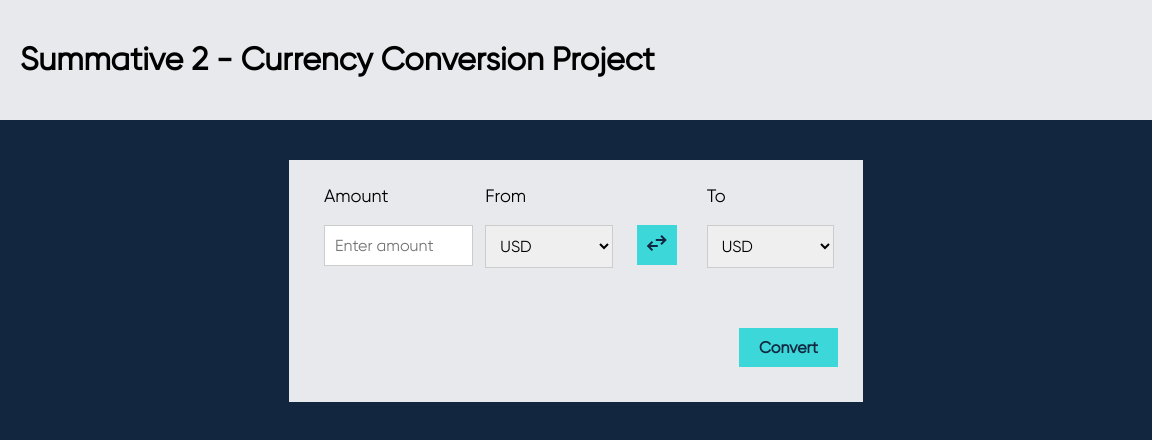
Test: Test suite confirms functionality of critical UI elements › should display error message when amount is invalid
# Simulate user entering an invalid amount
Type "invalid" into the field with test id "amountElement". click: (399, 246)
box: [324, 225, 473, 266]
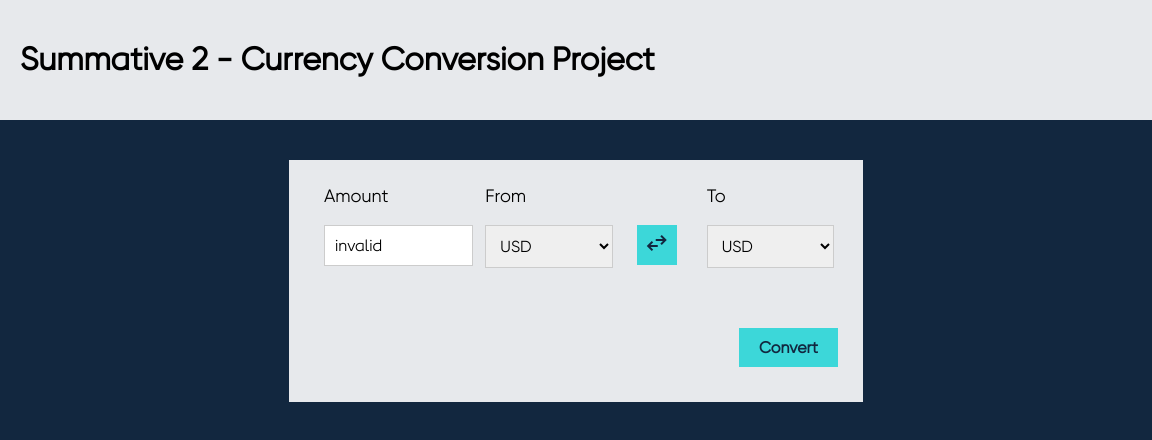
Click the button with test id "convertButton". click: (788, 348)
box: [739, 328, 838, 367]
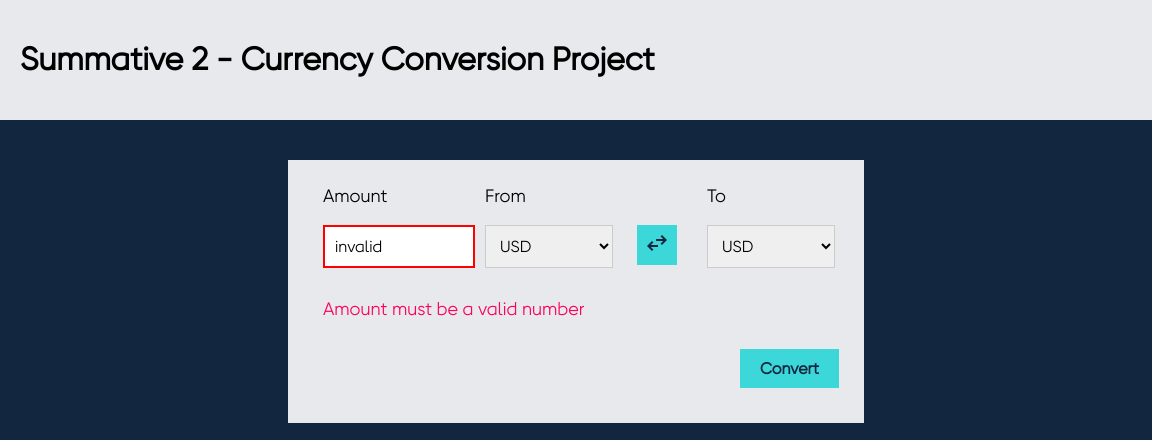
Now the text with test id "errorField" reads "Amount must be a valid number", box [323, 298, 584, 319]
